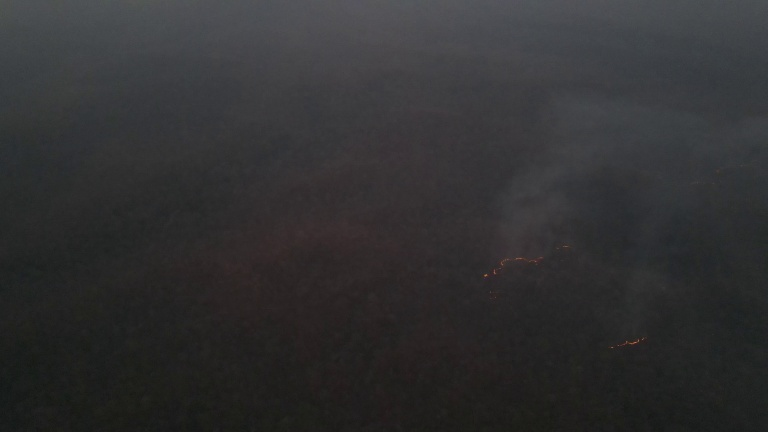fire: (485, 238, 577, 294), (608, 329, 649, 352)
smoke: (470, 87, 620, 247)
